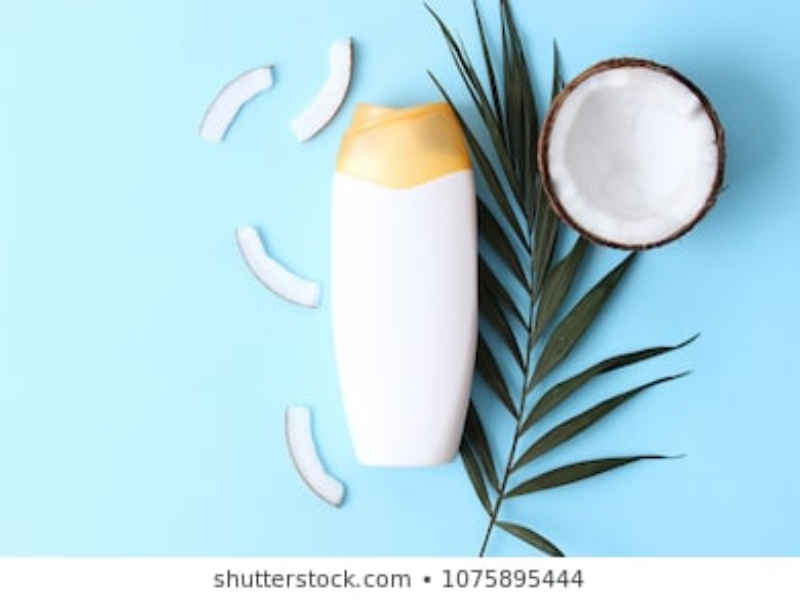shampoo-bottle: (325, 93, 476, 470)
